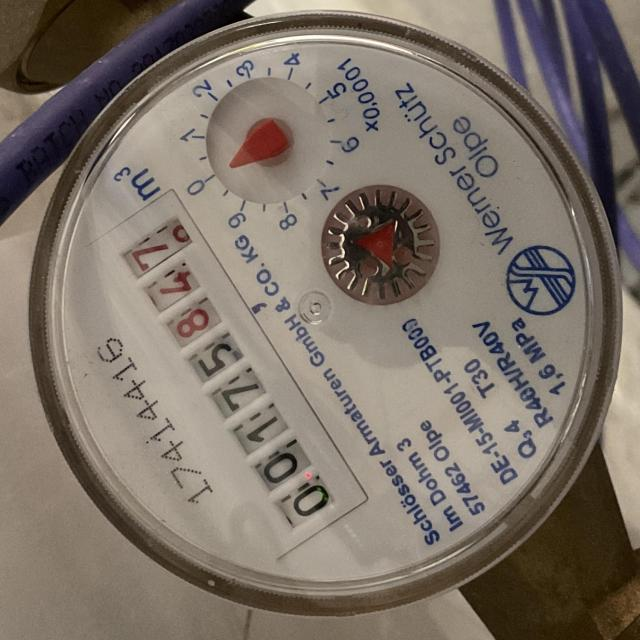gaz_meter: (40, 14, 610, 588)
indication: (103, 189, 370, 555)
